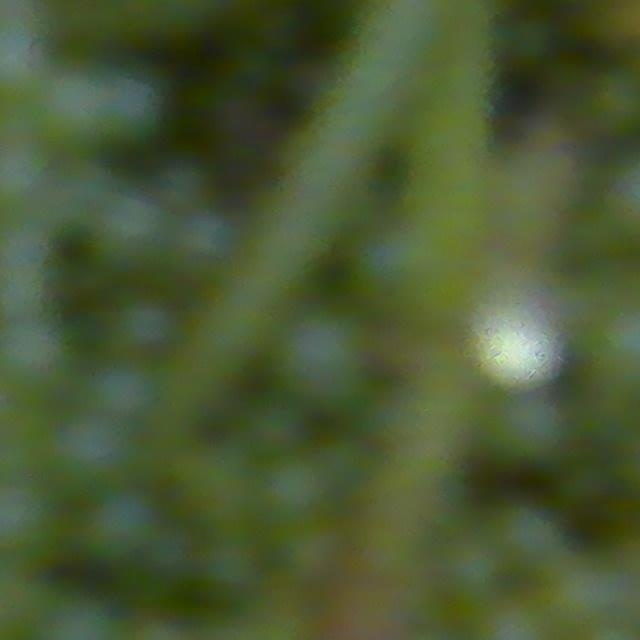SeaGrape: (274, 307, 371, 407), (88, 189, 174, 275), (36, 62, 112, 153), (51, 410, 132, 491), (489, 392, 572, 468), (82, 486, 160, 566), (0, 314, 74, 396), (0, 480, 68, 569), (488, 501, 566, 578), (581, 301, 640, 399), (259, 451, 334, 523), (87, 357, 163, 424), (106, 293, 178, 357), (0, 18, 53, 102), (0, 136, 51, 213), (586, 67, 640, 139)
